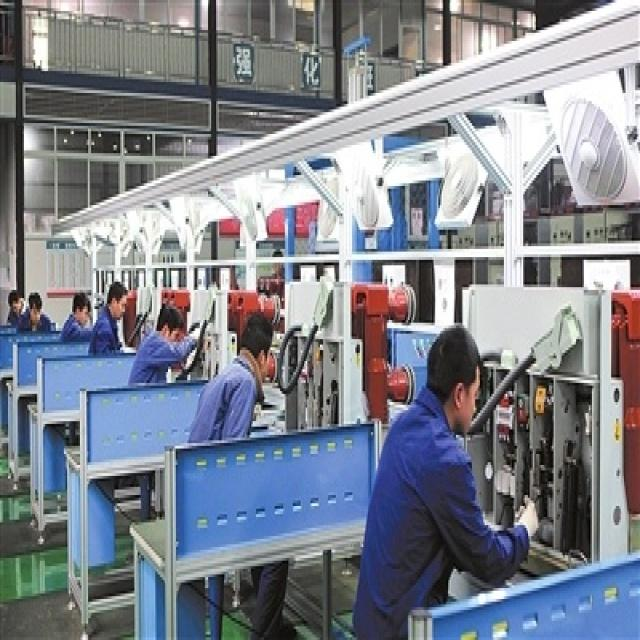helmet: (421, 431, 482, 576), (237, 409, 274, 504), (150, 401, 184, 463), (104, 368, 126, 429), (71, 384, 92, 439), (25, 386, 43, 431), (5, 384, 21, 420)
